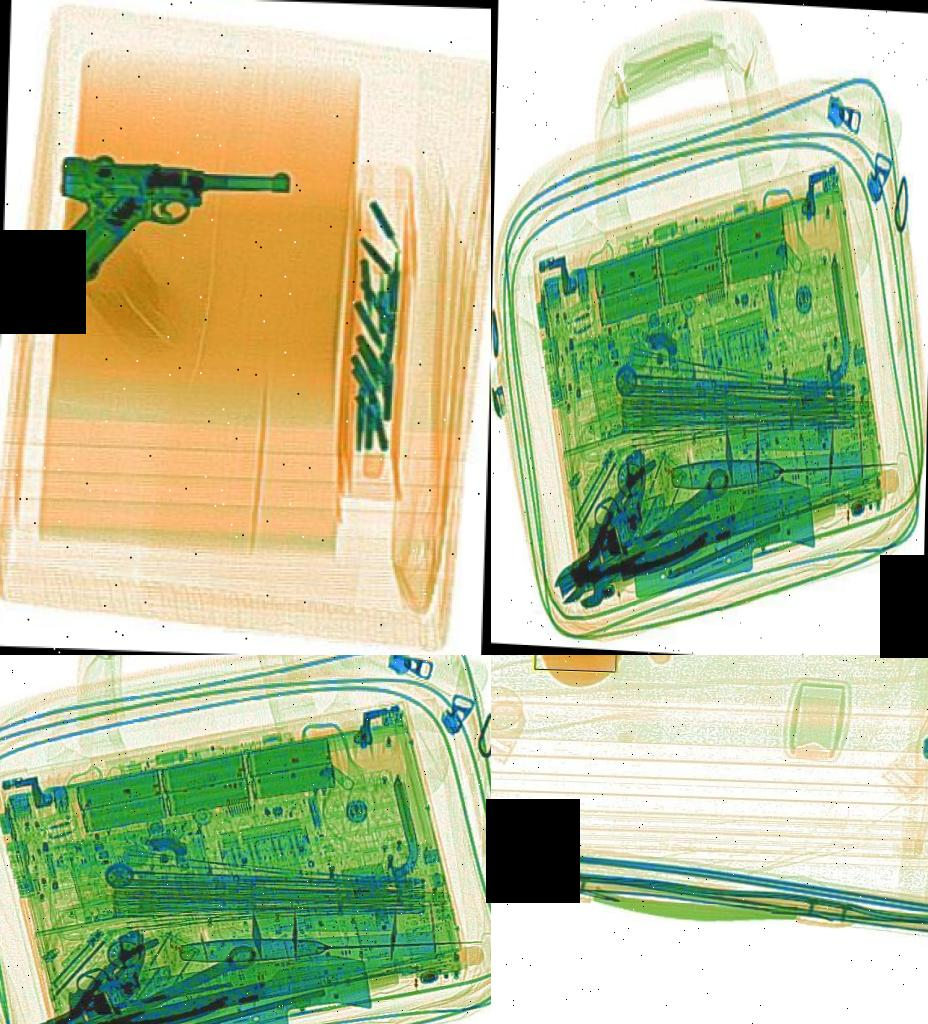Gun: (47, 152, 288, 298)
Knife: (174, 917, 485, 974), (667, 433, 900, 504)
Pliers: (533, 434, 713, 645), (0, 918, 235, 1024)
Wrench: (568, 448, 734, 622), (42, 929, 263, 1024)
